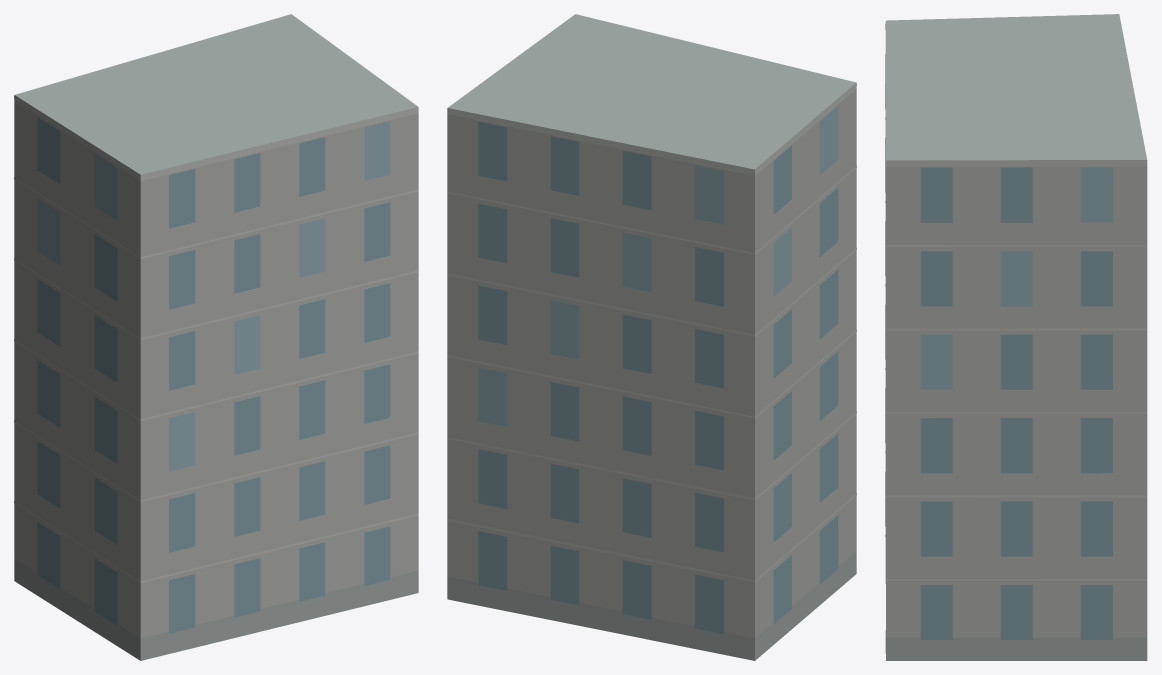
The model's file is survey-upis-32961271.glb.
The picture shows the model from 3 angles, left to right: view 1: azimuth 30°, elevation 25°; view 2: azimuth 150°, elevation 25°; view 3: azimuth 270°, elevation 25°; orthographic projection. The views are drawn at different scales.
Visible parts, largest first — view 1: survey-upis-32961271.tmp; view 2: survey-upis-32961271.tmp; view 3: survey-upis-32961271.tmp.
Boxes of the visible parts, bbox=[...] form: survey-upis-32961271.tmp: bbox=[14, 14, 418, 660]; survey-upis-32961271.tmp: bbox=[447, 14, 856, 660]; survey-upis-32961271.tmp: bbox=[885, 14, 1147, 660].
Bounding box in the file's own units: 11.61 × 18.5 × 8.79.
